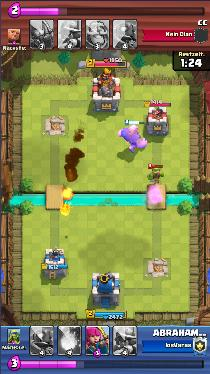ally_giant: (117, 123, 148, 152)
ally_goblin_cage: (146, 166, 165, 184)
enemy_fireball: (59, 187, 74, 217)
